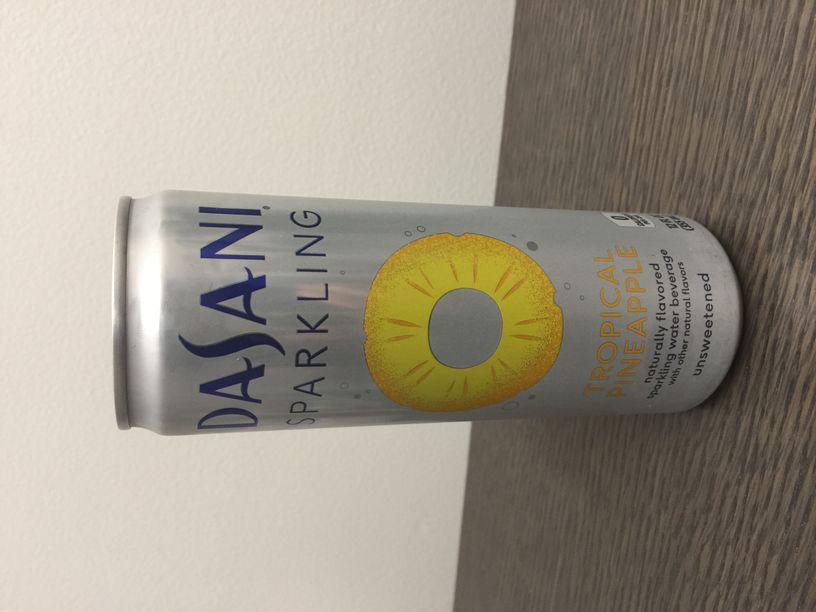pineapple: (354, 224, 654, 416)
